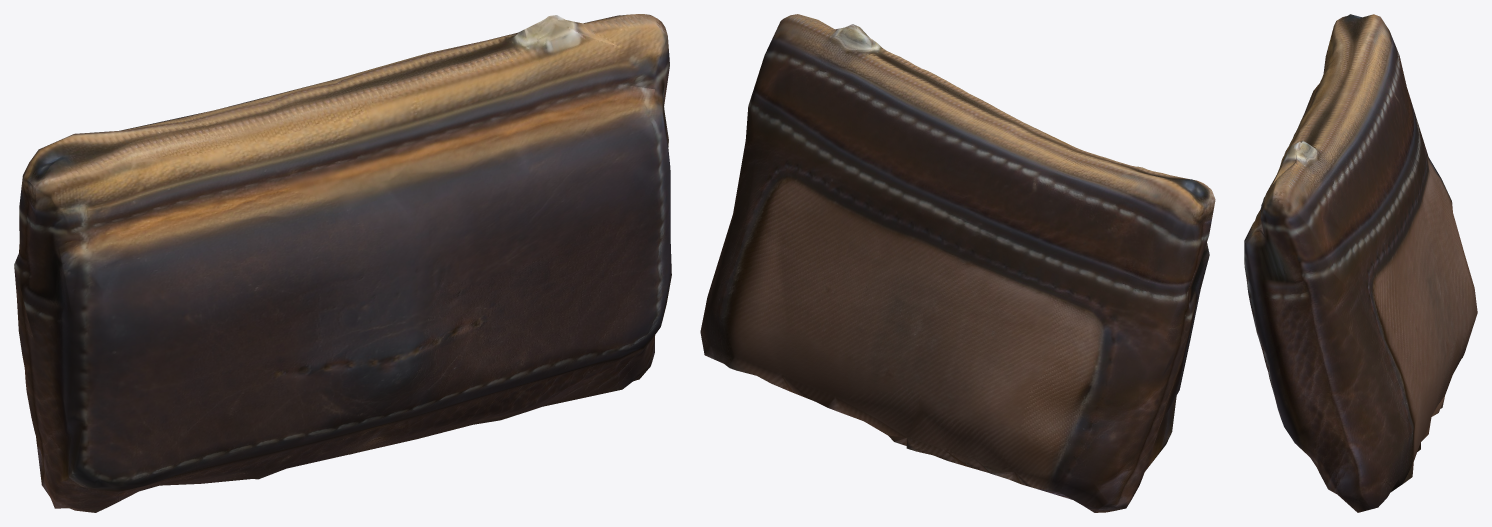
The model's file is wallet.glb.
3 views of the same model, side by side, from view 1: azimuth 30°, elevation 25°; view 2: azimuth 150°, elevation 25°; view 3: azimuth 270°, elevation 25° (orthographic). The views are drawn at different scales.
Parts seen in each view (by area): view 1: Object_2; view 2: Object_2; view 3: Object_2.
Boxes of the visible parts, x1=… form: Object_2: x1=14, y1=14, x2=671, y2=512; Object_2: x1=700, y1=14, x2=1215, y2=512; Object_2: x1=1244, y1=14, x2=1477, y2=512.
Bounding box in the file's own units: 0.1447 × 0.1008 × 0.0608.
1 material, 1 textured.
